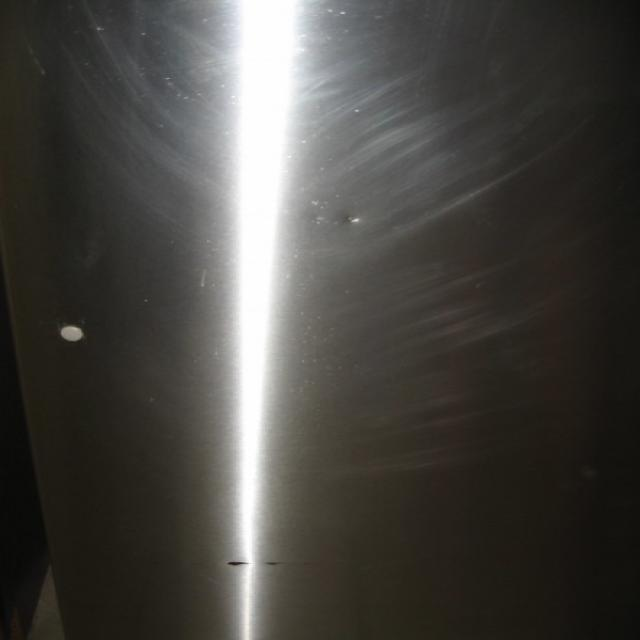dents: (215, 550, 327, 591), (339, 202, 371, 249)
